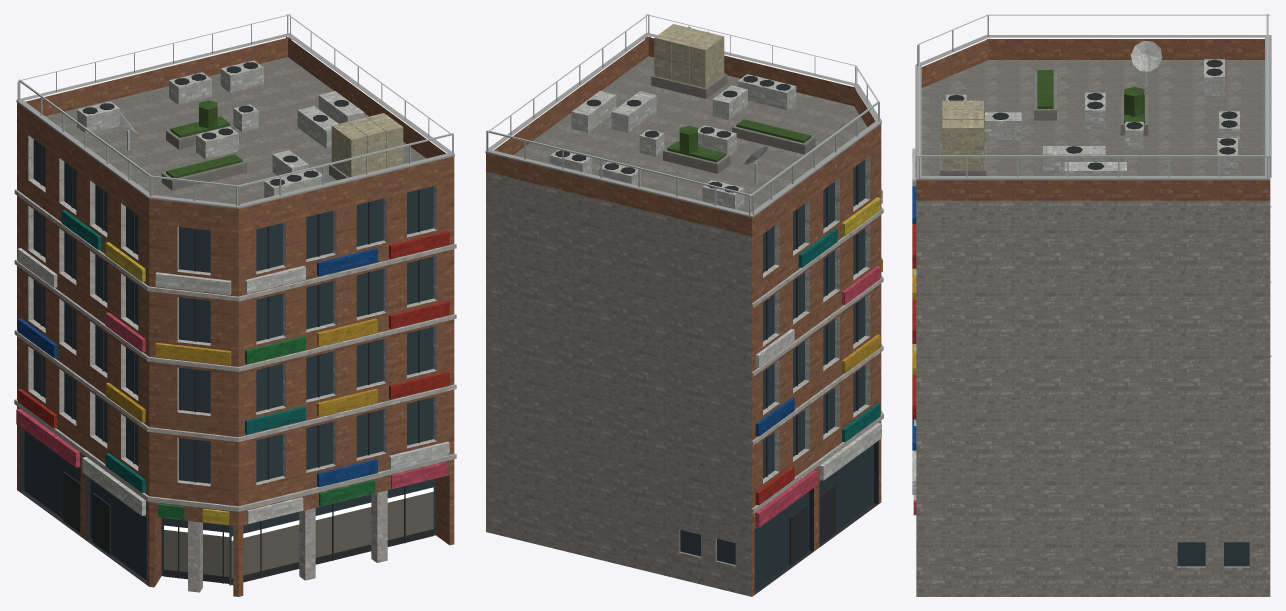
The model's file is seoul_corner_00.glb.
3 renders of one model, left to right at view 1: azimuth 30°, elevation 25°; view 2: azimuth 150°, elevation 25°; view 3: azimuth 270°, elevation 25°, orthographic. The views are drawn at different scales.
Visible parts, largest first — view 1: seoul_corner_00_LOD0; view 2: seoul_corner_00_LOD0; view 3: seoul_corner_00_LOD0.
Part boxes in pixels (box(x1,y1,x2,y2)): seoul_corner_00_LOD0: box(14, 14, 456, 596); seoul_corner_00_LOD0: box(485, 14, 883, 596); seoul_corner_00_LOD0: box(912, 14, 1271, 596).
Size of what is drawn, in the model's own units: 14.88 by 21.42 by 15.54.
Materials: 5 (2 with a texture image).
